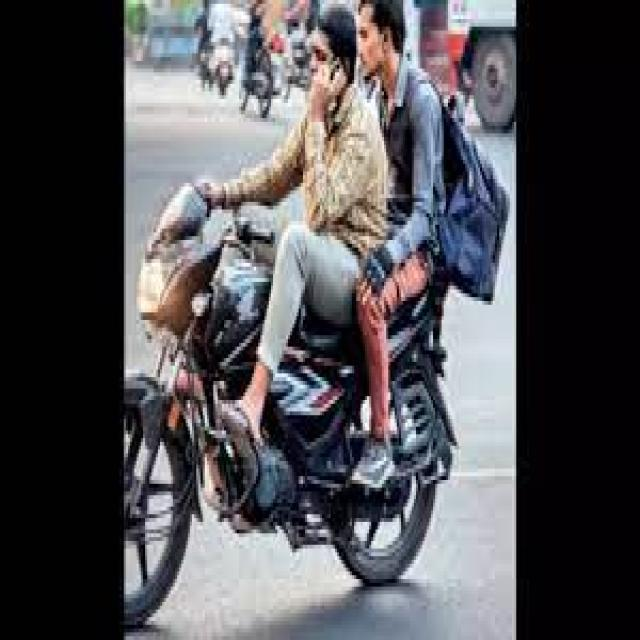USING_MOBILE: (304, 54, 354, 230)
